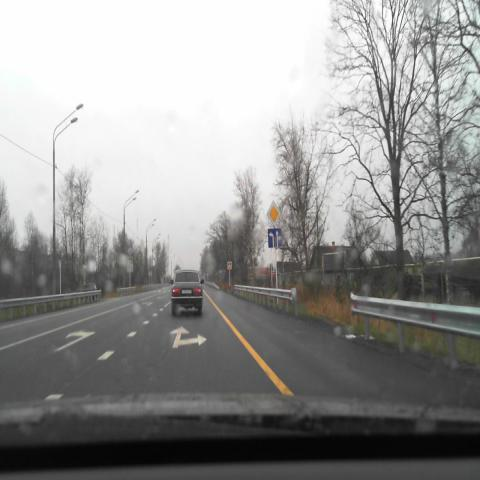2_1: (267, 200, 281, 227)
5_15_2_2: (268, 228, 282, 248)
